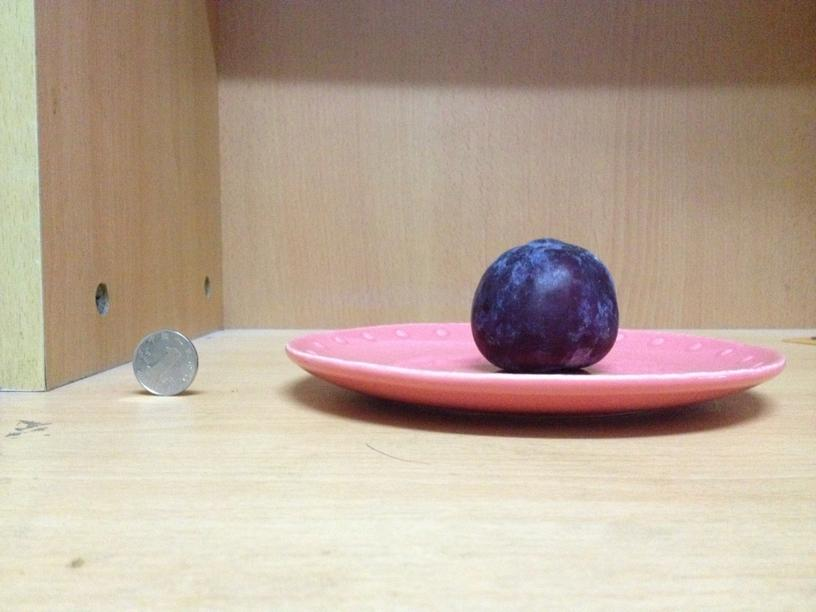coin: (133, 329, 198, 395)
plum: (470, 239, 619, 371)
